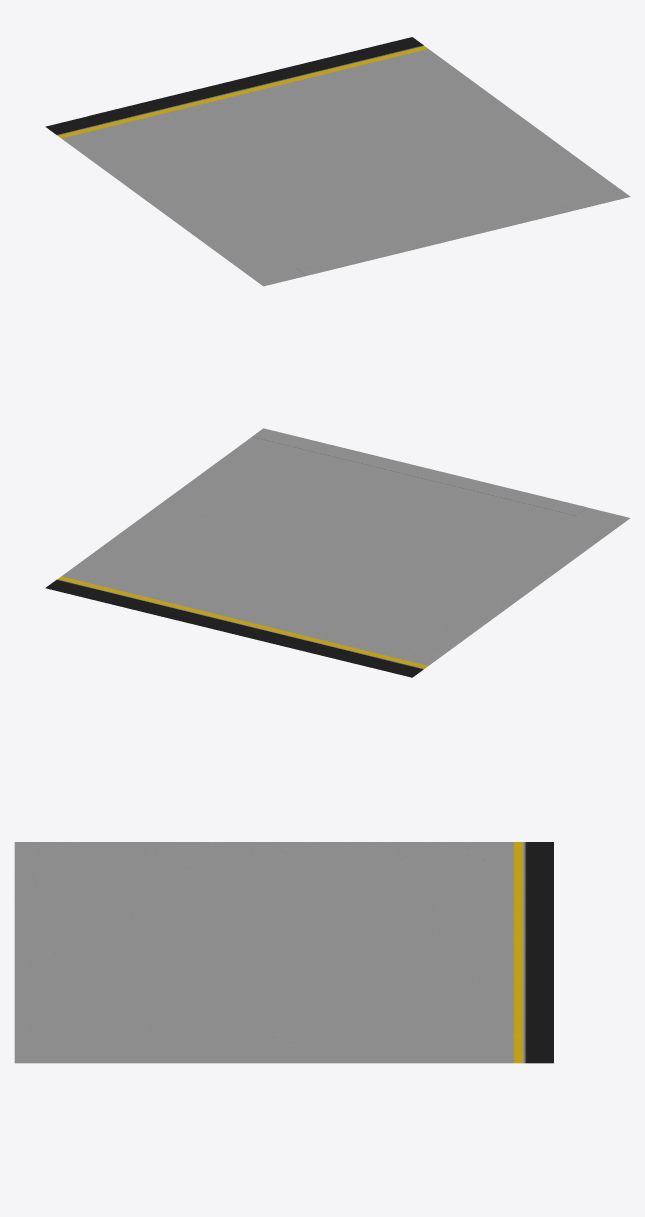
The model's file is floorMiddle2.fbx.
3 renders of one model, top to bottom at view 1: azimuth 30°, elevation 25°; view 2: azimuth 150°, elevation 25°; view 3: azimuth 270°, elevation 25°, orthographic. The views are drawn at different scales.
Visible parts, largest first — view 1: pCube56; view 2: pCube56; view 3: pCube56.
Part boxes in pixels (left/top/right/bottom): pCube56: left=45, top=37, right=630, bottom=286; pCube56: left=45, top=428, right=630, bottom=677; pCube56: left=14, top=842, right=553, bottom=1063.
Bounding box in the file's own units: 3.4 × 1 × 4.
1 material, 1 textured.
